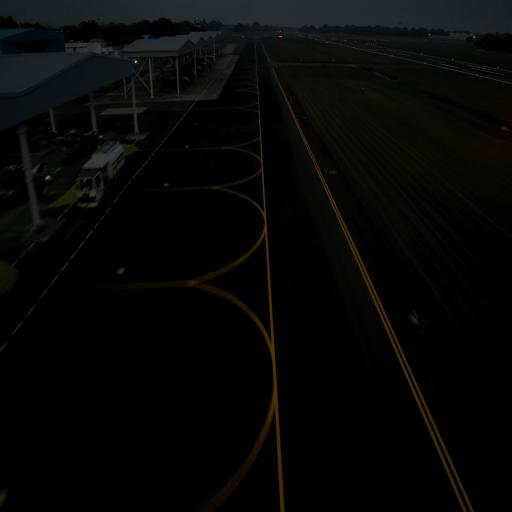on: (410, 308, 420, 326), (304, 115, 306, 121)
